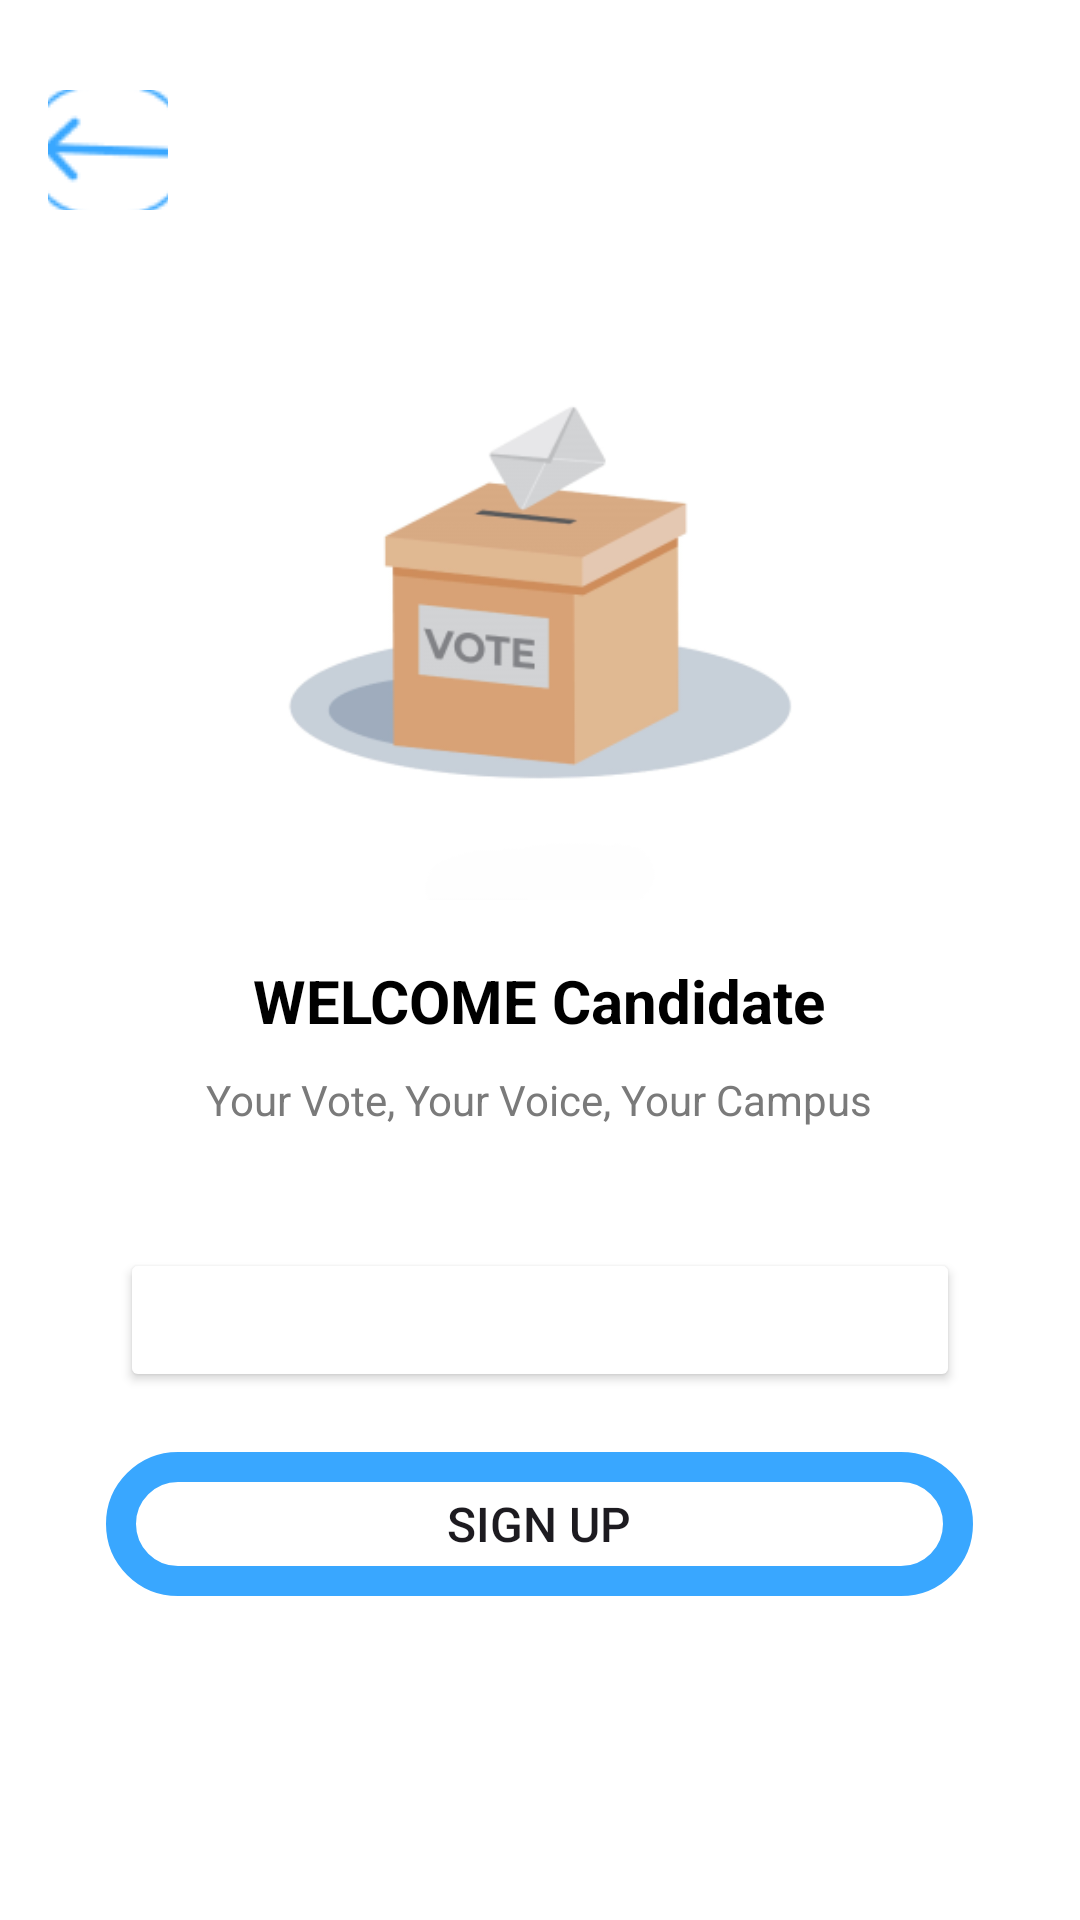

Icon click points for this 1080*1920 phone screenshot, format (x=x, y=y):
Back: (x=108, y=150)
